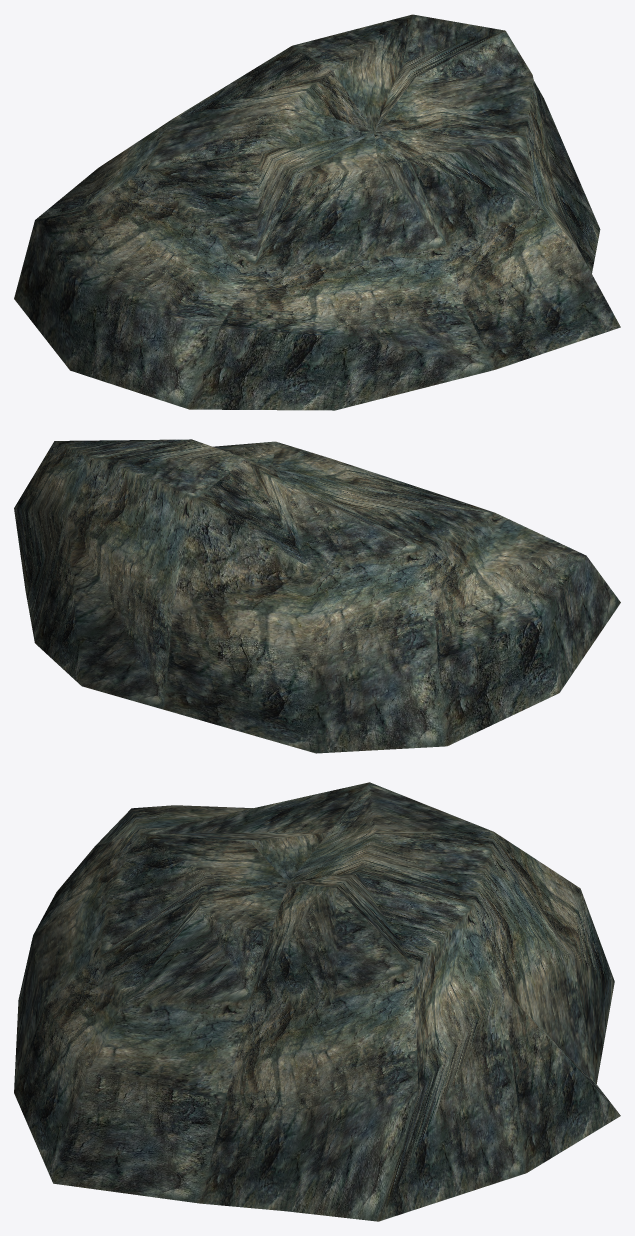
File: pir_m_are_isl_rockSmall.fbx
3 renders of one model, top to bottom at view 1: azimuth 30°, elevation 25°; view 2: azimuth 150°, elevation 25°; view 3: azimuth 270°, elevation 25°, orthographic. The views are drawn at different scales.
Parts seen in each view (by area): view 1: whole_island; view 2: whole_island; view 3: whole_island.
Boxes of the visible parts, <box> form: whole_island: <box>14,14,620,410</box>; whole_island: <box>14,439,620,753</box>; whole_island: <box>14,782,620,1221</box>.
Size of the model in its own units: 37829 by 13865 by 29878.
Materials: 1 (1 with a texture image).
